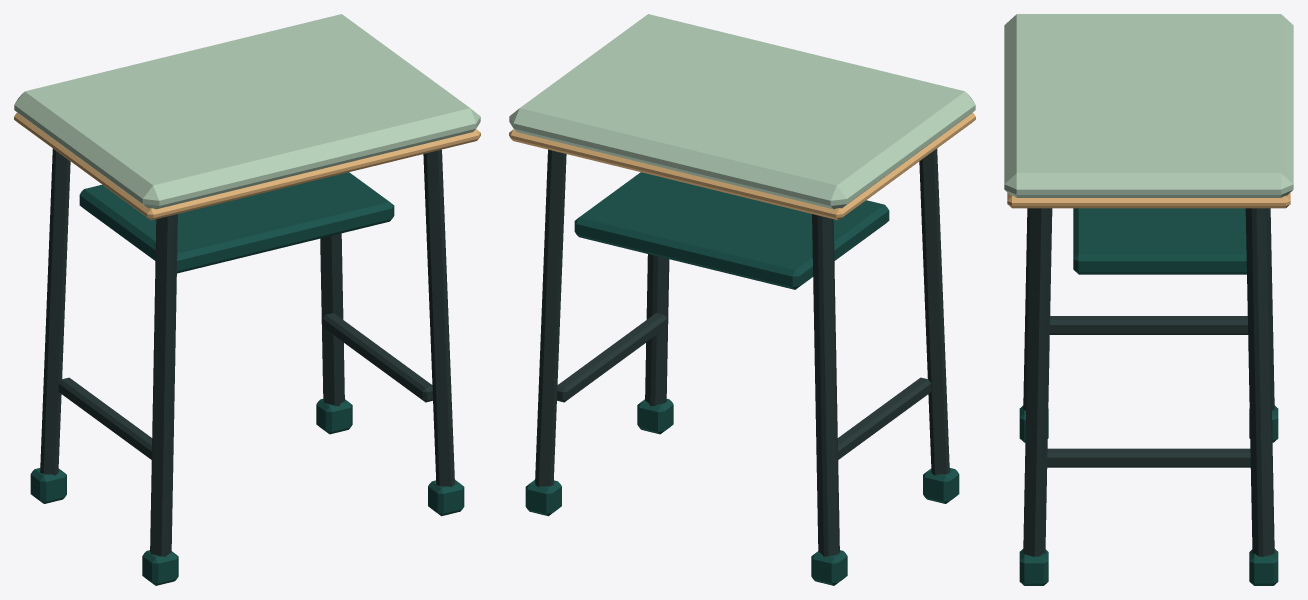
Rendered from student_desk.glb.
The picture shows the model from 3 angles, left to right: view 1: azimuth 30°, elevation 25°; view 2: azimuth 150°, elevation 25°; view 3: azimuth 270°, elevation 25°; orthographic projection. The views are drawn at different scales.
Parts seen in each view (by area): view 1: Tampo laminado, Porta-livros, Pé tubular, Pé tubular.002, Pé tubular.001, Borda de madeira, Pé tubular.003, Reforço lateral.001, Reforço lateral, Sapata.002, Sapata, Sapata.001 (+1 smaller); view 2: Tampo laminado, Porta-livros, Pé tubular.001, Pé tubular.003, Pé tubular, Borda de madeira, Pé tubular.002, Reforço lateral.001, Reforço lateral, Sapata.003, Sapata, Sapata.001 (+1 smaller); view 3: Tampo laminado, Porta-livros, Pé tubular.002, Pé tubular.003, Reforço lateral.001, Reforço lateral, Borda de madeira, Sapata.002, Sapata.003, Pé tubular, Pé tubular.001.
Boxes of the visible parts, x1=… form: Tampo laminado: x1=14, y1=14, x2=480, y2=209; Porta-livros: x1=79, y1=172, x2=394, y2=273; Pé tubular: x1=150, y1=214, x2=177, y2=556; Pé tubular.002: x1=423, y1=149, x2=454, y2=486; Pé tubular.001: x1=40, y1=148, x2=70, y2=475; Borda de madeira: x1=14, y1=112, x2=480, y2=220; Pé tubular.003: x1=320, y1=233, x2=344, y2=406; Reforço lateral.001: x1=322, y1=313, x2=432, y2=402; Reforço lateral: x1=58, y1=377, x2=152, y2=459; Sapata.002: x1=428, y1=480, x2=464, y2=516; Sapata: x1=142, y1=550, x2=178, y2=585; Sapata.001: x1=30, y1=468, x2=66, y2=503; Tampo laminado: x1=509, y1=14, x2=975, y2=209; Porta-livros: x1=574, y1=172, x2=889, y2=289; Pé tubular.001: x1=812, y1=214, x2=839, y2=556; Pé tubular.003: x1=535, y1=149, x2=566, y2=486; Pé tubular: x1=919, y1=148, x2=949, y2=475; Borda de madeira: x1=509, y1=112, x2=975, y2=220; Pé tubular.002: x1=645, y1=254, x2=669, y2=406; Reforço lateral.001: x1=557, y1=313, x2=667, y2=402; Reforço lateral: x1=837, y1=377, x2=931, y2=459; Sapata.003: x1=525, y1=480, x2=561, y2=516; Sapata: x1=923, y1=468, x2=959, y2=503; Sapata.001: x1=811, y1=550, x2=847, y2=585; Tampo laminado: x1=1004, y1=14, x2=1293, y2=197; Porta-livros: x1=1073, y1=208, x2=1268, y2=274; Pé tubular.002: x1=1023, y1=208, x2=1052, y2=556; Pé tubular.003: x1=1245, y1=208, x2=1274, y2=556; Reforço lateral.001: x1=1047, y1=448, x2=1250, y2=467; Reforço lateral: x1=1050, y1=316, x2=1247, y2=334; Borda de madeira: x1=1007, y1=192, x2=1290, y2=208; Sapata.002: x1=1019, y1=549, x2=1048, y2=585; Sapata.003: x1=1249, y1=549, x2=1278, y2=585; Pé tubular: x1=1023, y1=208, x2=1029, y2=410; Pé tubular.001: x1=1268, y1=208, x2=1274, y2=410.
Bounding box in the file's own units: 0.68 × 0.778 × 0.49.
